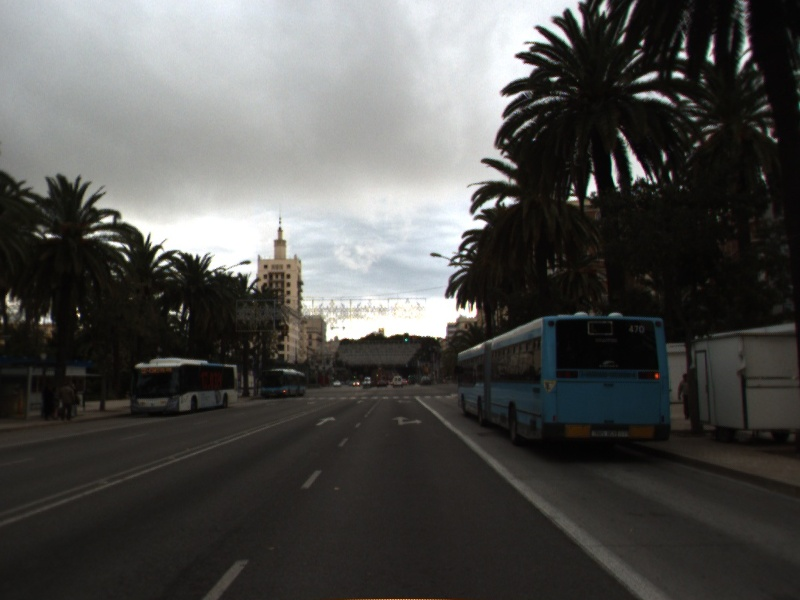STRAIGHT: (314, 415, 338, 427)
STRAIGHT_RIGHT: (390, 414, 424, 427)
